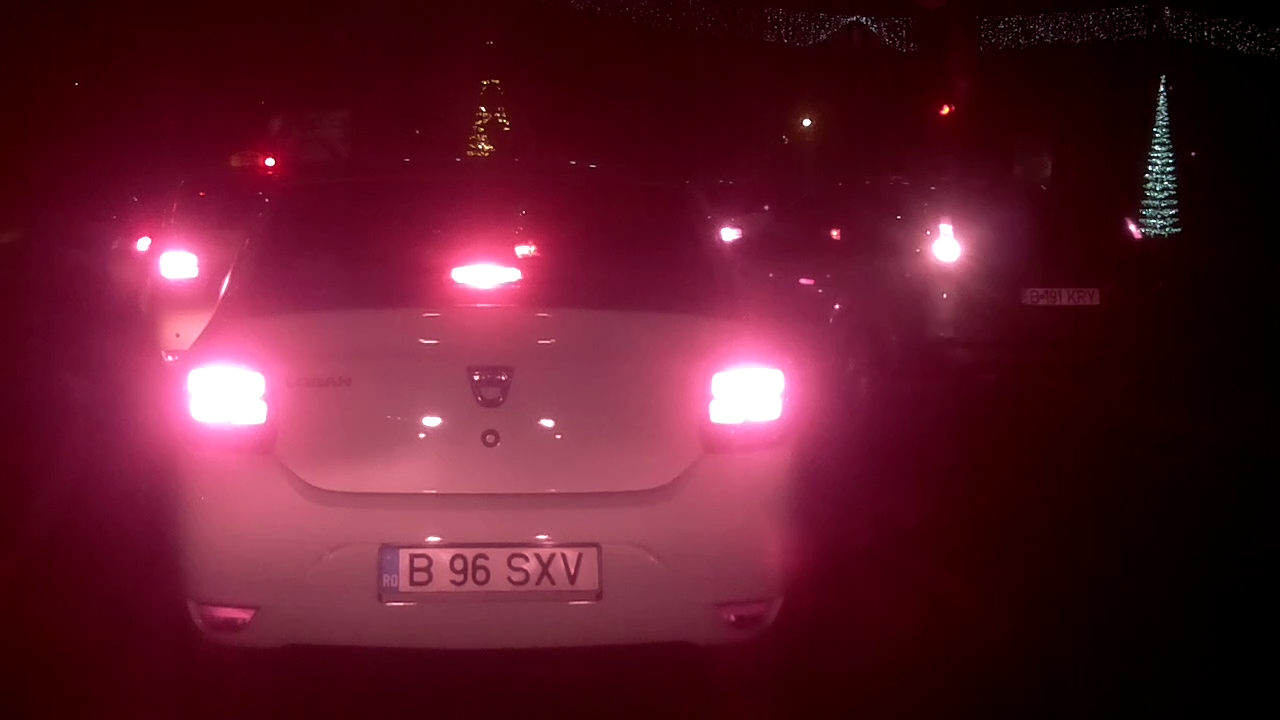license-plate: (374, 537, 605, 600)
